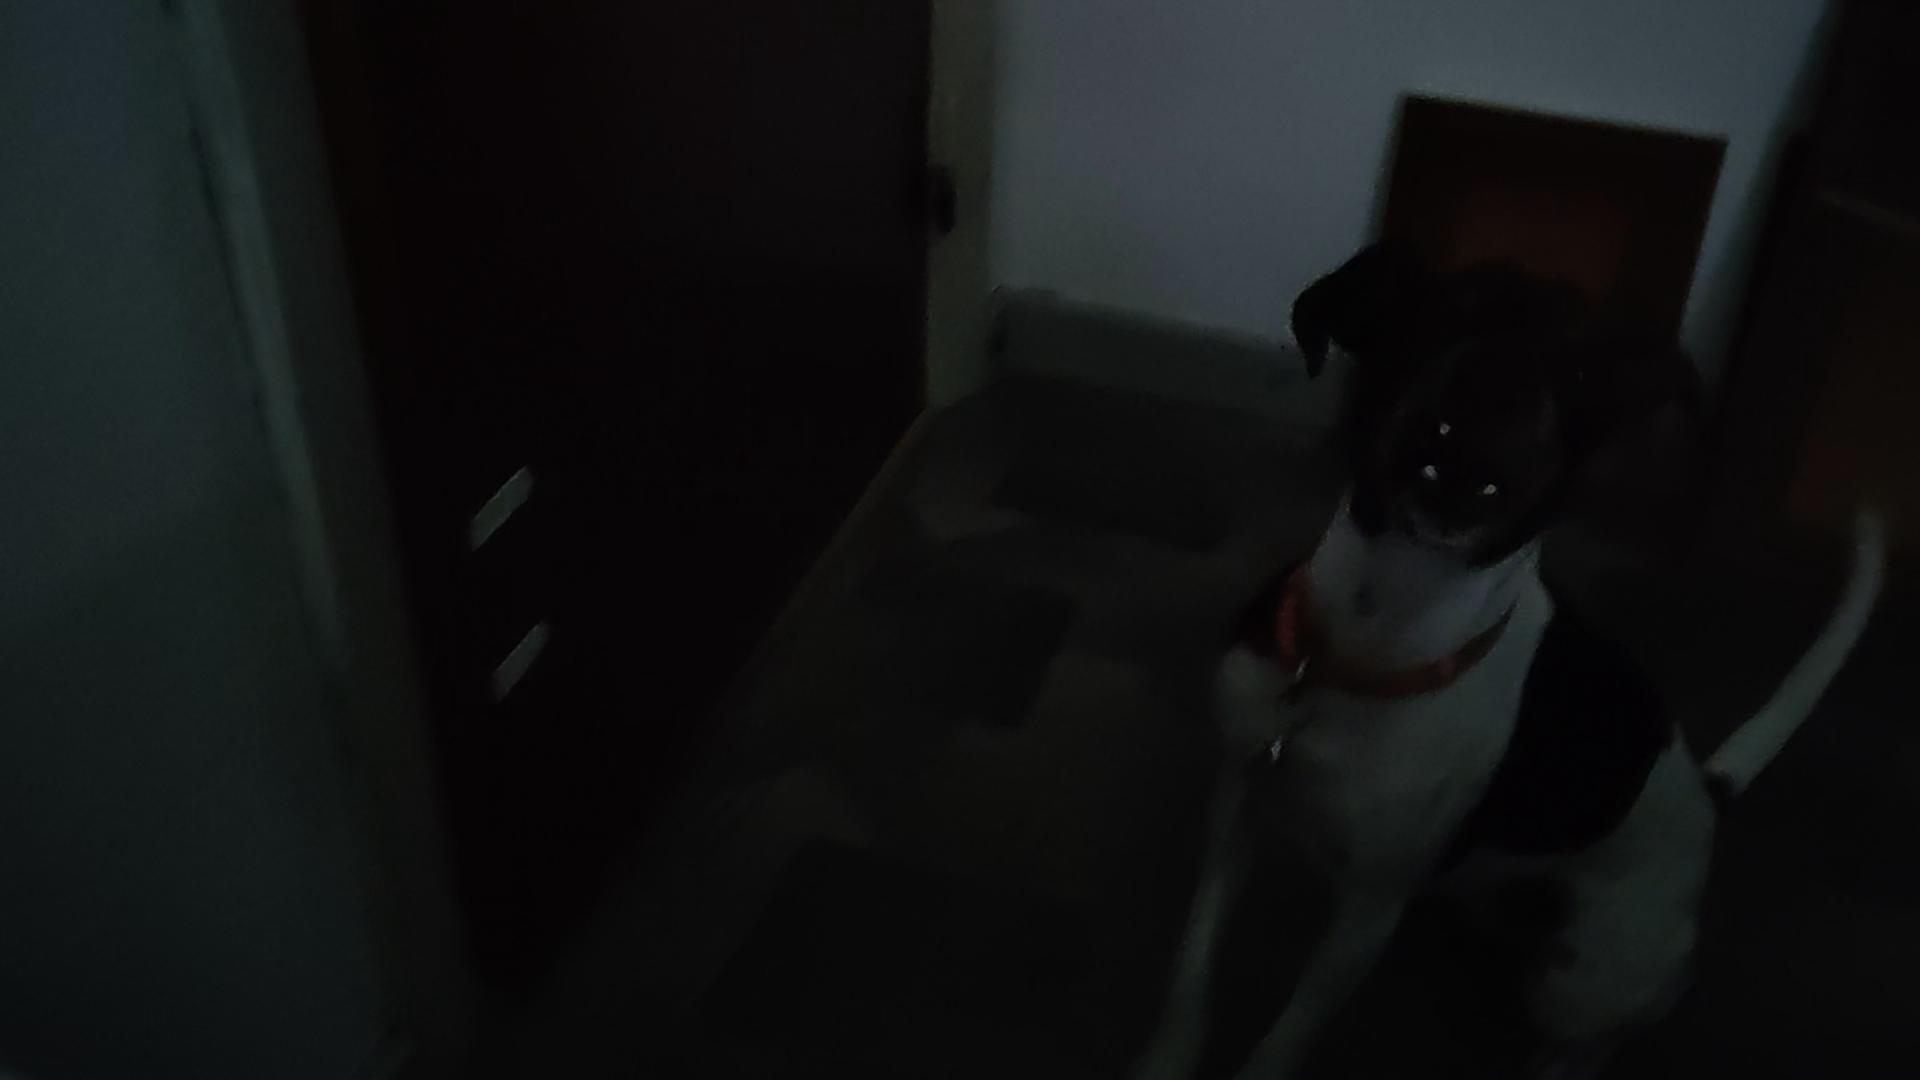Dog: (1139, 218, 1887, 1079)
